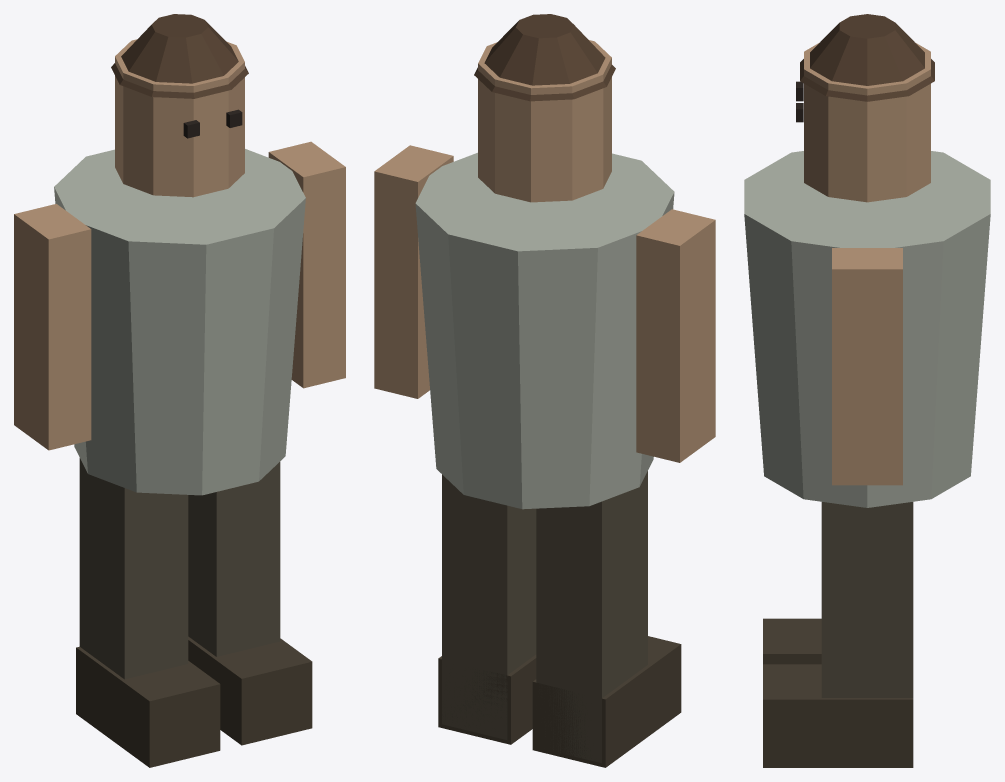
File: villager.gltf
3 views of the same model, side by side, from view 1: azimuth 30°, elevation 25°; view 2: azimuth 150°, elevation 25°; view 3: azimuth 270°, elevation 25° (orthographic). The views are drawn at different scales.
Size of the model in its own units: 0.84 by 1.85 by 0.5897.
